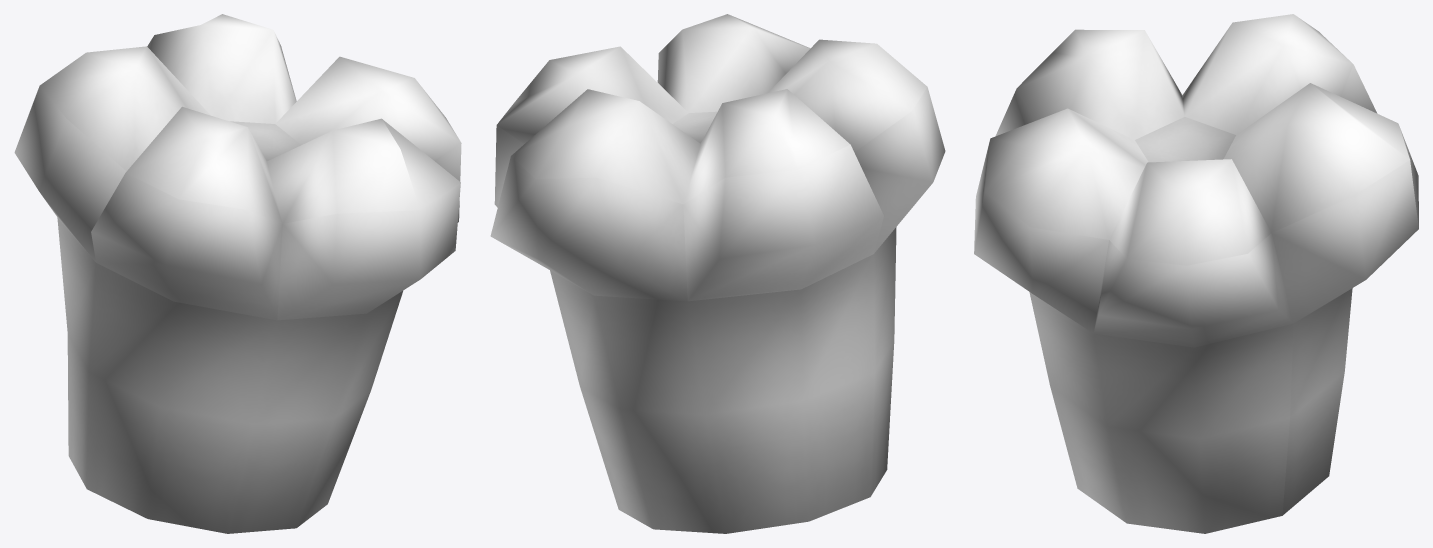
The model's file is Nezumi_Boushi.fbx.
The picture shows the model from 3 angles, left to right: view 1: azimuth 30°, elevation 25°; view 2: azimuth 150°, elevation 25°; view 3: azimuth 270°, elevation 25°; orthographic projection. The views are drawn at different scales.
Visible parts, largest first — view 1: Nezumi_Boushi; view 2: Nezumi_Boushi; view 3: Nezumi_Boushi.
Part boxes in pixels (x1,y1,x2,y2): Nezumi_Boushi: (14,14,461,533); Nezumi_Boushi: (490,14,945,533); Nezumi_Boushi: (974,14,1418,533).
Bounding box in the file's own units: 31.2 × 33.5 × 31.23.
